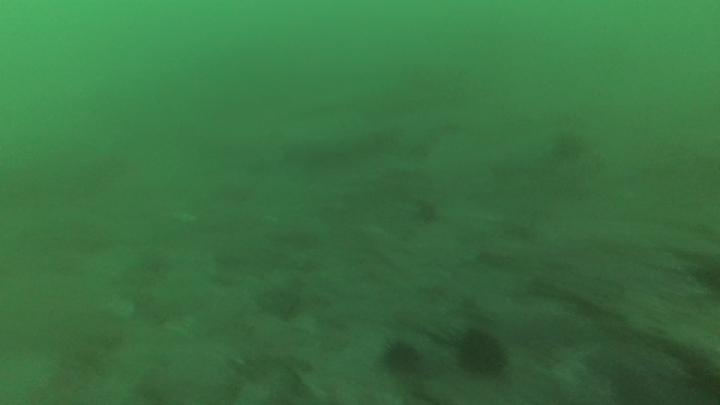echinus: (454, 327, 510, 379), (380, 337, 423, 377), (547, 129, 589, 166)
